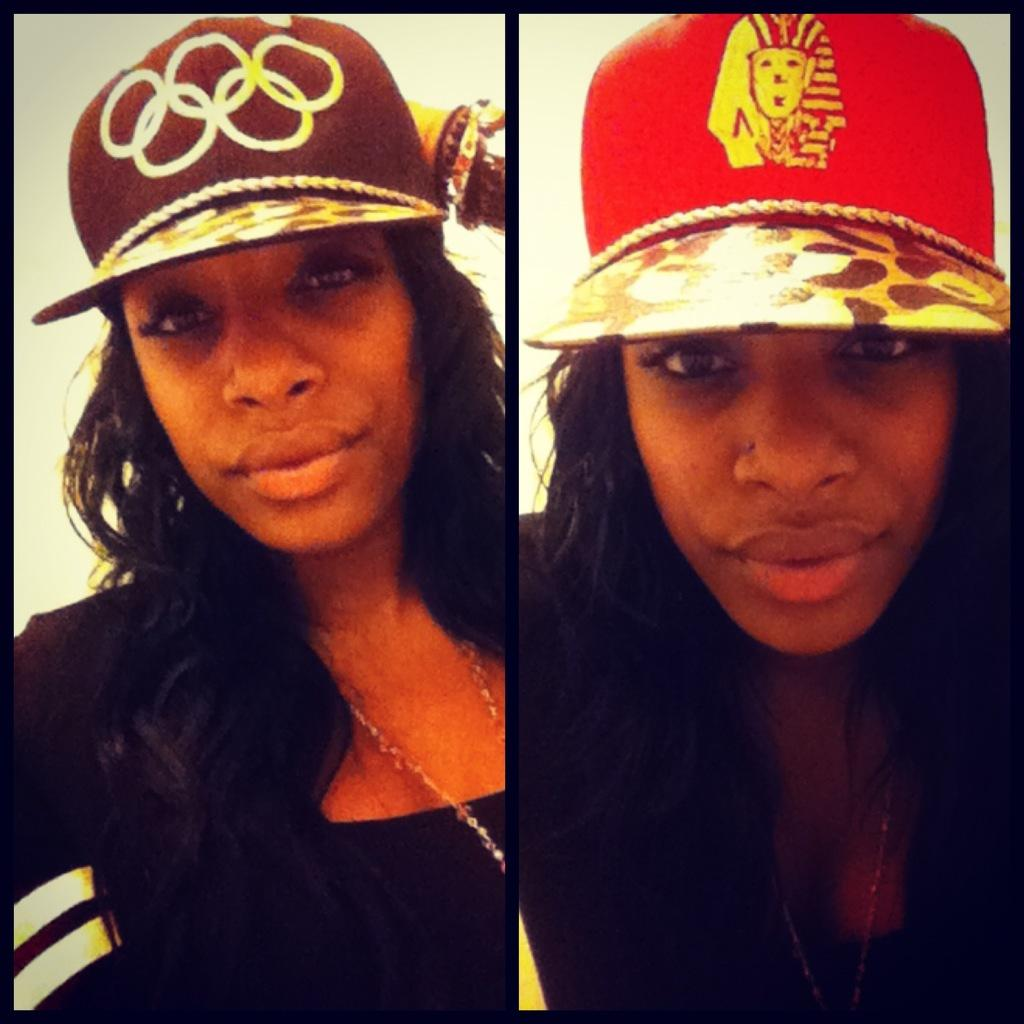Hat: (520, 12, 1012, 350), (24, 14, 448, 327)
